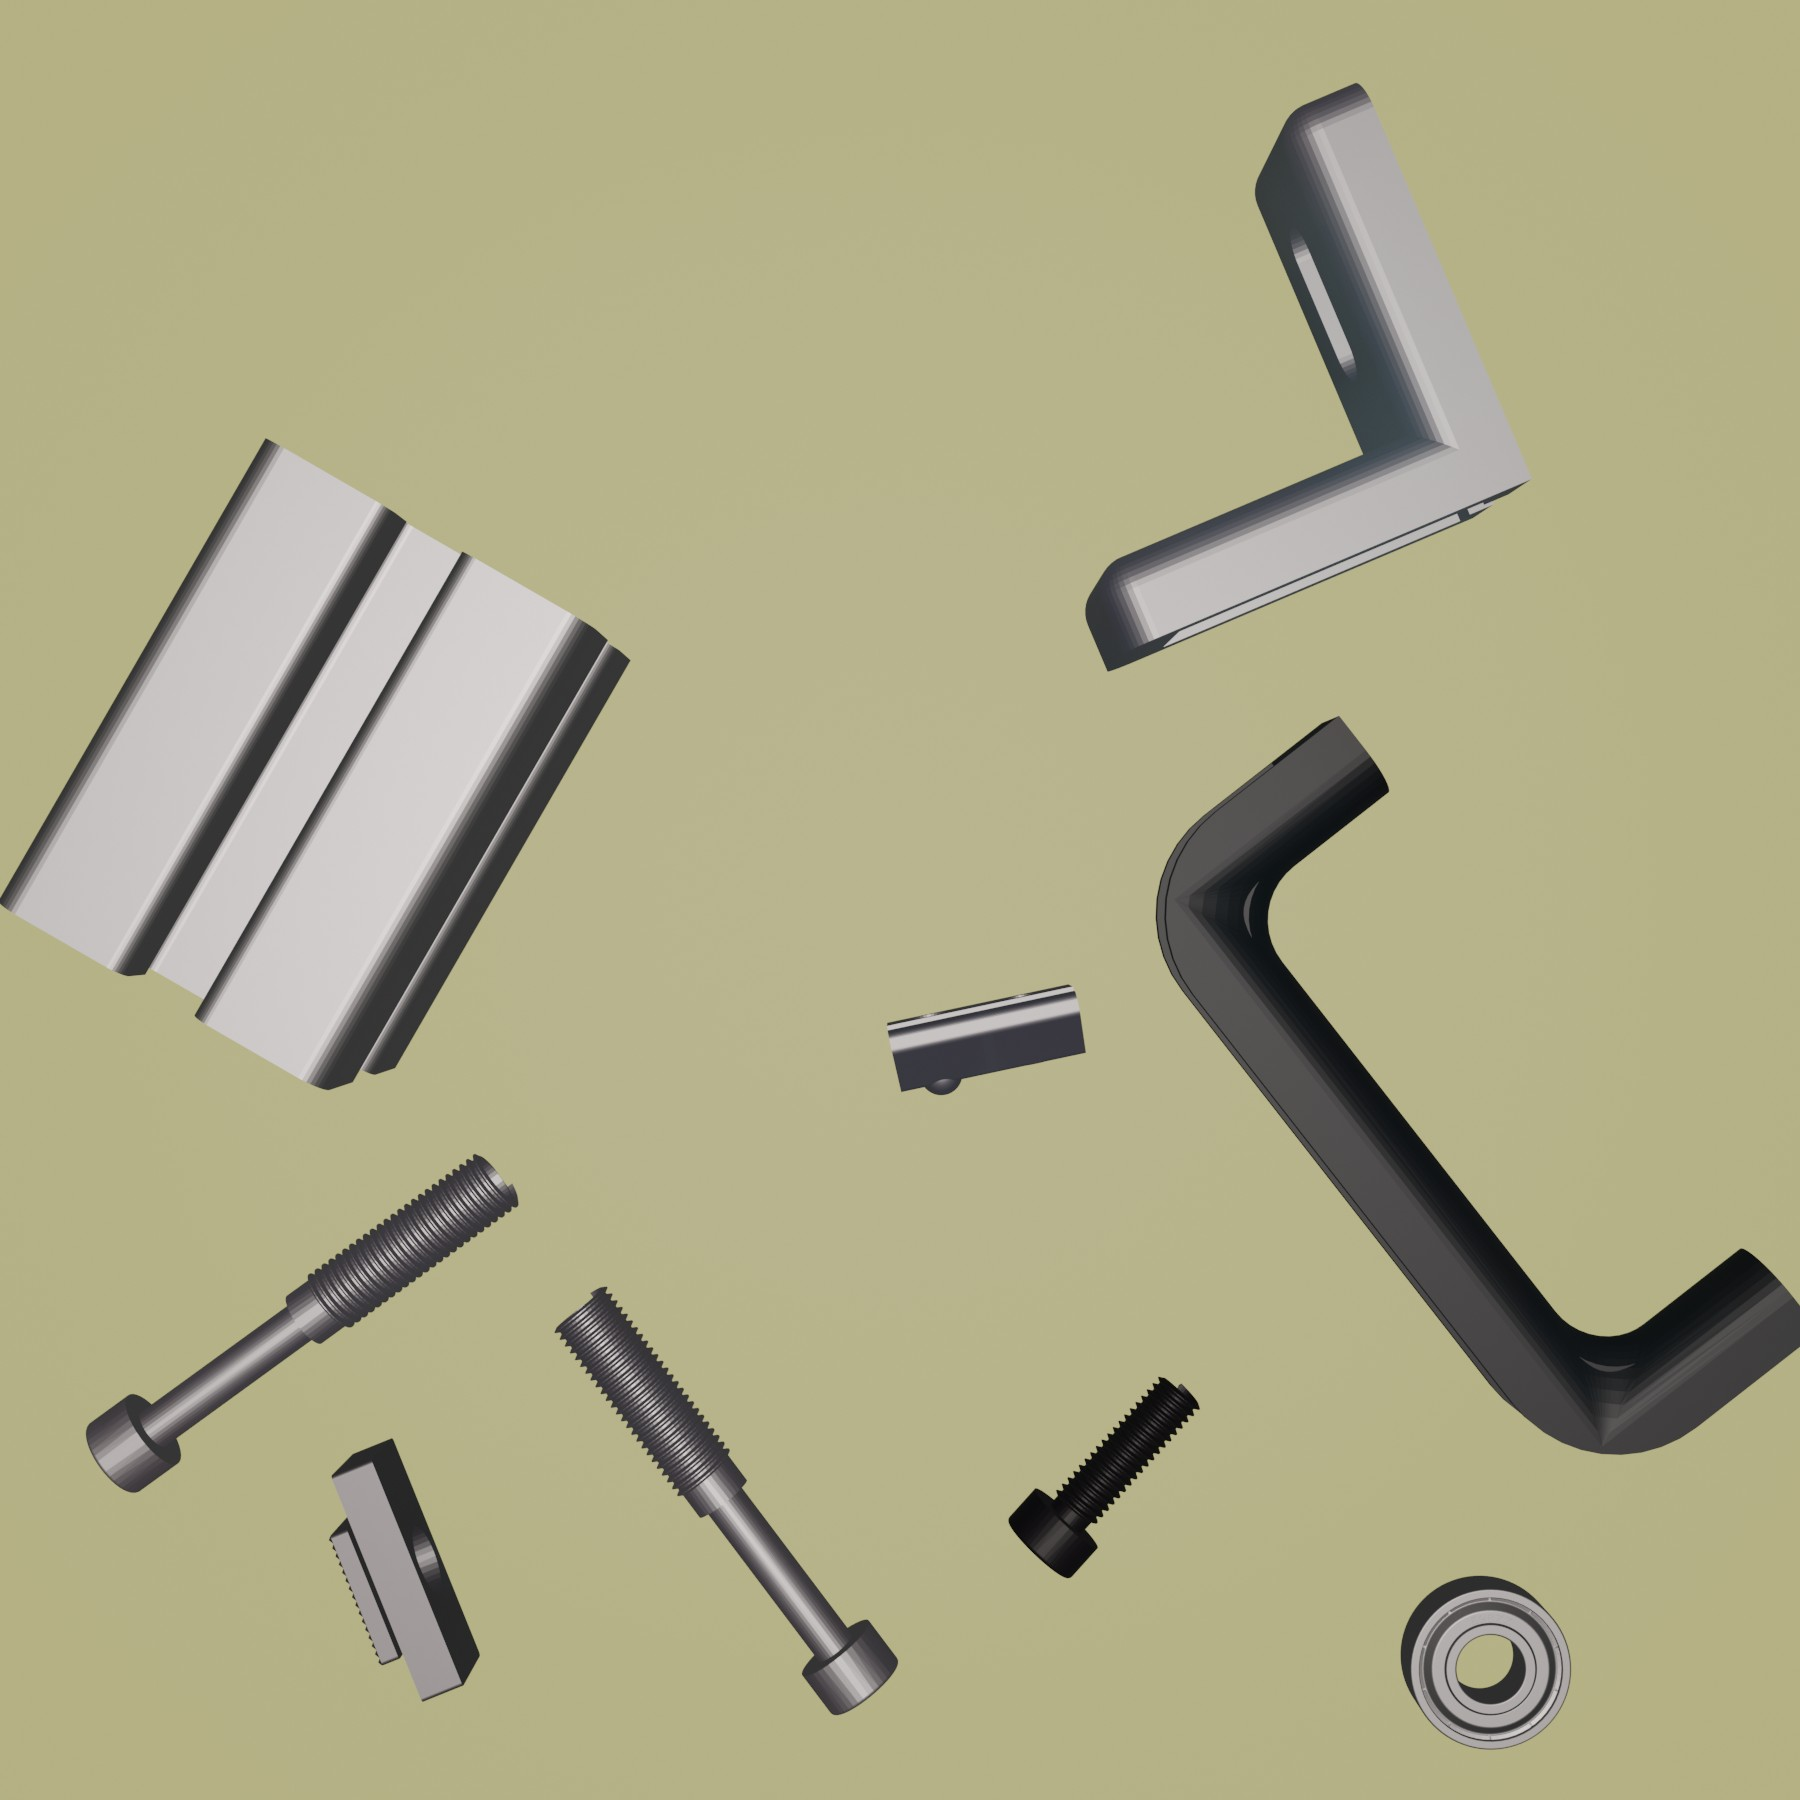Aluminium Extension: (2, 437, 631, 1093)
Ball Bearing: (1398, 1573, 1574, 1754)
Multiwinkel: (1081, 81, 1533, 674)
Pull Handle: (1152, 715, 1800, 1459)
Shoulder Socket Head Cap Screw: (552, 1281, 902, 1718), (86, 1151, 521, 1495)
Socket Head Cap Screw: (1005, 1376, 1202, 1581)
T Nut Square: (328, 1434, 481, 1704)
T Spring Nut: (884, 981, 1091, 1099)
